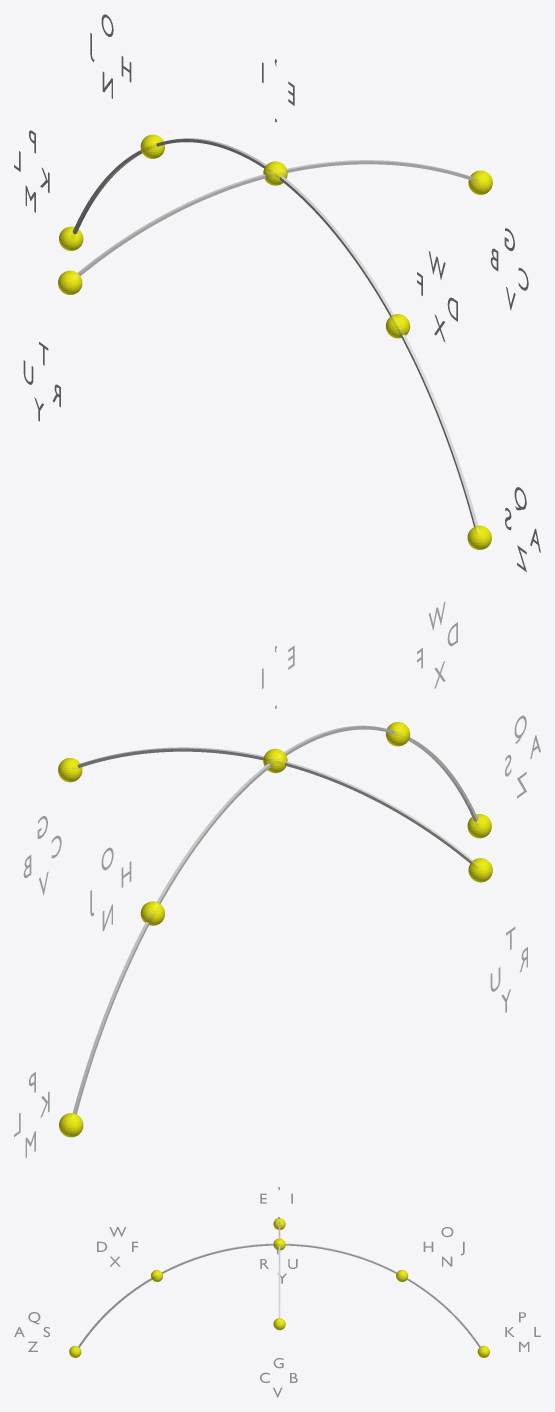
File: Orbit - Qwerty.fbx
The picture shows the model from 3 angles, top to bottom: view 1: azimuth 30°, elevation 25°; view 2: azimuth 150°, elevation 25°; view 3: azimuth 270°, elevation 25°; orthographic projection. The views are drawn at different scales.
Parts seen in each view (by area): view 1: Cube, Cube.001; view 2: Cube, Cube.001; view 3: Cube, Cube.001.
Part boxes in pixels (x1,y1,x2,y2): Cube: [71, 138, 479, 533]; Cube.001: [72, 160, 478, 280]; Cube: [71, 725, 479, 1121]; Cube.001: [72, 747, 478, 868]; Cube: [76, 1243, 482, 1350]; Cube.001: [278, 1221, 280, 1322].
Size of the model in its own units: 660 by 460 by 1290.
